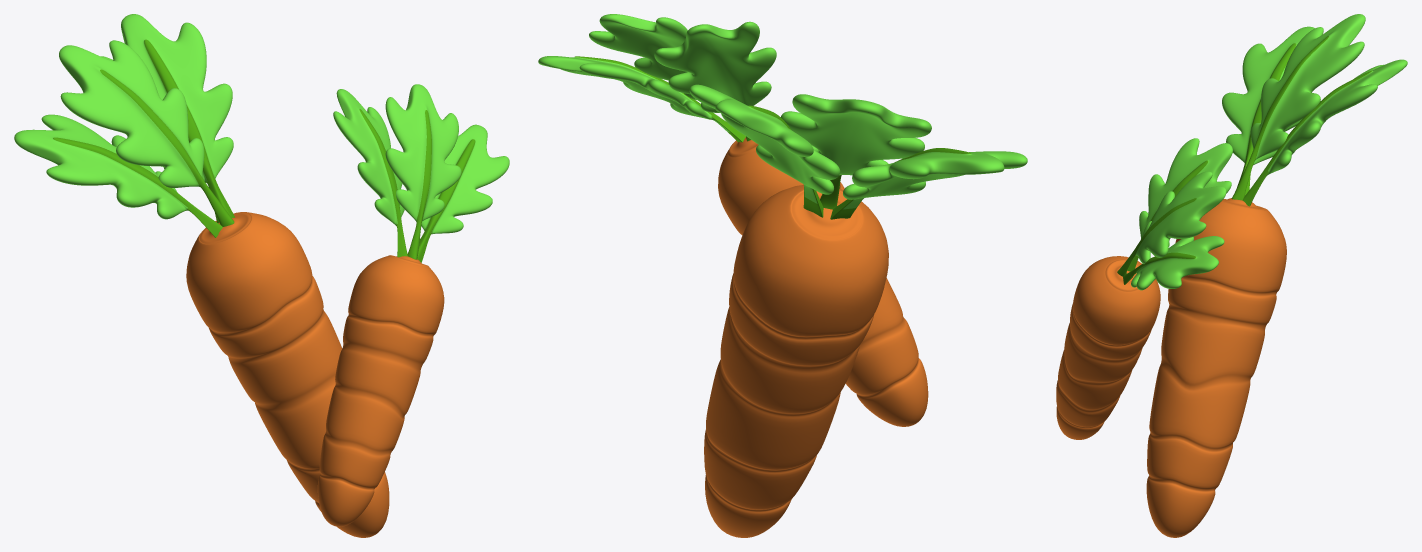
Rendered from 1. Carrot(1).fbx.
3 renders of one model, left to right at view 1: azimuth 30°, elevation 25°; view 2: azimuth 150°, elevation 25°; view 3: azimuth 270°, elevation 25°, orthographic. The views are drawn at different scales.
Parts seen in each view (by area): view 1: Cube, Cube.001, Plane.002, Plane.001, Plane.004, Plane.003; view 2: Cube, Plane.002, Cube.001, Plane.004, Plane.001, Plane.003; view 3: Cube, Cube.001, Plane.002, Plane.001, Plane.004, Plane.003.
Boxes of the visible parts, x1,y1,x2,y2 form: Cube: [186, 212, 389, 537]; Cube.001: [317, 255, 444, 526]; Plane.002: [14, 14, 234, 237]; Plane.001: [59, 40, 234, 226]; Plane.004: [333, 89, 509, 262]; Plane.003: [385, 84, 461, 259]; Cube: [704, 185, 888, 537]; Plane.002: [689, 84, 1027, 219]; Cube.001: [718, 137, 928, 426]; Plane.004: [538, 21, 776, 142]; Plane.001: [781, 94, 931, 209]; Plane.003: [589, 14, 696, 99]; Cube: [1146, 198, 1286, 537]; Cube.001: [1056, 256, 1160, 439]; Plane.002: [1222, 26, 1407, 206]; Plane.001: [1231, 14, 1365, 200]; Plane.004: [1123, 138, 1232, 290]; Plane.003: [1117, 171, 1226, 276].
Size of the model in its own units: 184 by 193 by 142.
